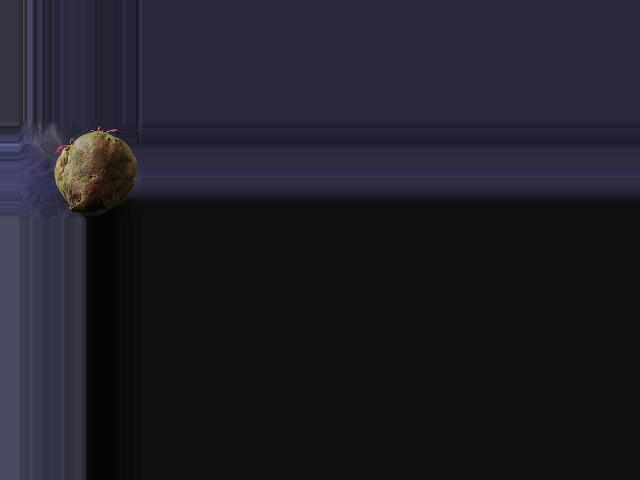beet: (54, 127, 136, 215)
